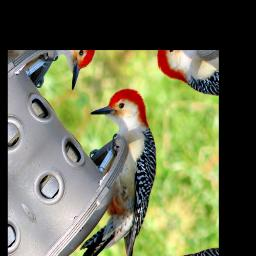Woodpecker: (19, 74, 204, 256)
